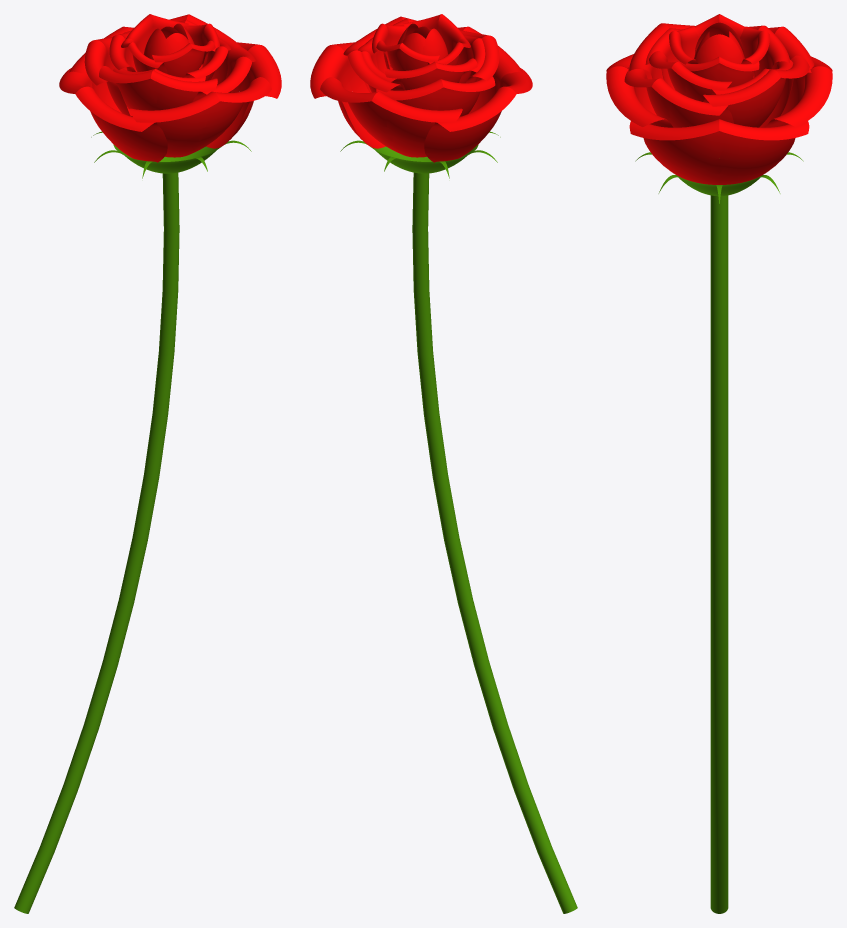
Rendered from model-rose.dae.
3 renders of one model, left to right at view 1: azimuth 30°, elevation 25°; view 2: azimuth 150°, elevation 25°; view 3: azimuth 270°, elevation 25°, orthographic. The views are drawn at different scales.
Visible parts, largest first — view 1: group_13, group_7 (×4), group_6 (×3), group_5 (×3), group_4 (×4), group_12; view 2: group_13, group_6 (×3), group_4 (×3), group_7 (×4), group_5 (×2), group_12; view 3: group_13, group_5 (×3), group_4 (×4), group_7 (×4), group_6 (×4), group_12.
Part boxes in pixels (x1,y1,x2,y2): group_13: (14, 172, 179, 913); group_7 (×4): (99, 14, 271, 157); group_6 (×3): (59, 23, 219, 162); group_5 (×3): (121, 38, 281, 148); group_4 (×4): (69, 14, 241, 112); group_12: (91, 131, 251, 178); group_13: (412, 172, 577, 913); group_6 (×3): (372, 23, 532, 162); group_4 (×3): (320, 14, 466, 157); group_7 (×4): (376, 26, 522, 113); group_5 (×2): (310, 35, 485, 148); group_12: (340, 131, 500, 178); group_13: (710, 195, 728, 913); group_5 (×3): (624, 28, 809, 184); group_4 (×4): (649, 26, 832, 127); group_7 (×4): (606, 23, 789, 127); group_6 (×4): (680, 26, 814, 127); group_12: (635, 152, 803, 203).
Bounding box in the file's own units: 8.71 × 6.01 × 28.26.
